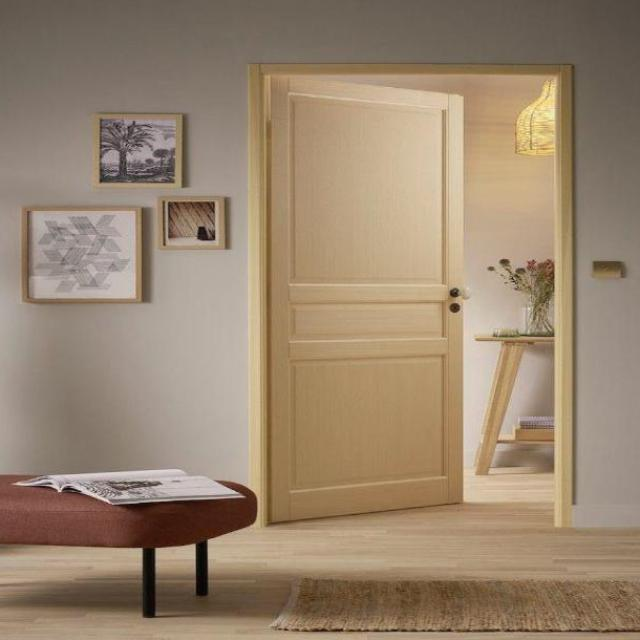door: (266, 76, 466, 524)
